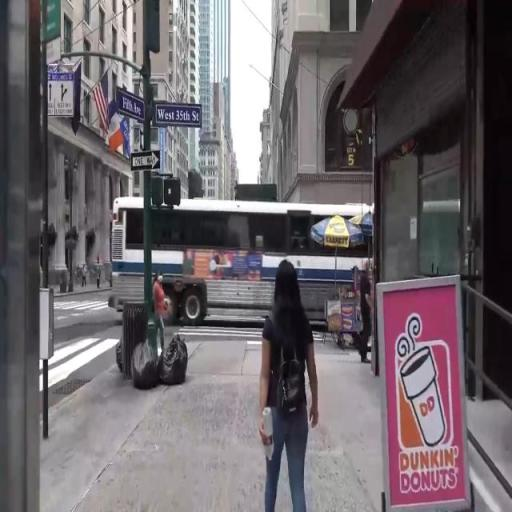person: (253, 256, 322, 512)
